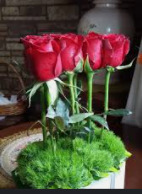RedRose: (13, 26, 66, 86), (101, 27, 132, 75), (59, 30, 84, 84), (82, 29, 104, 72)
